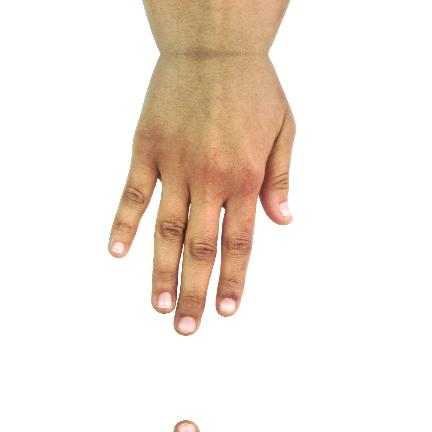Nail: (176, 316, 197, 333), (218, 298, 237, 314), (157, 292, 174, 309), (279, 200, 294, 218), (176, 423, 197, 432), (110, 242, 125, 254)
